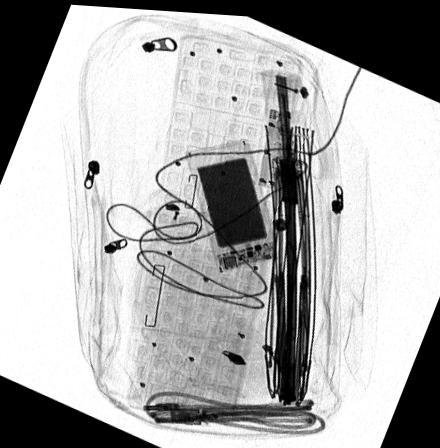Powerbank: (184, 136, 277, 269)
